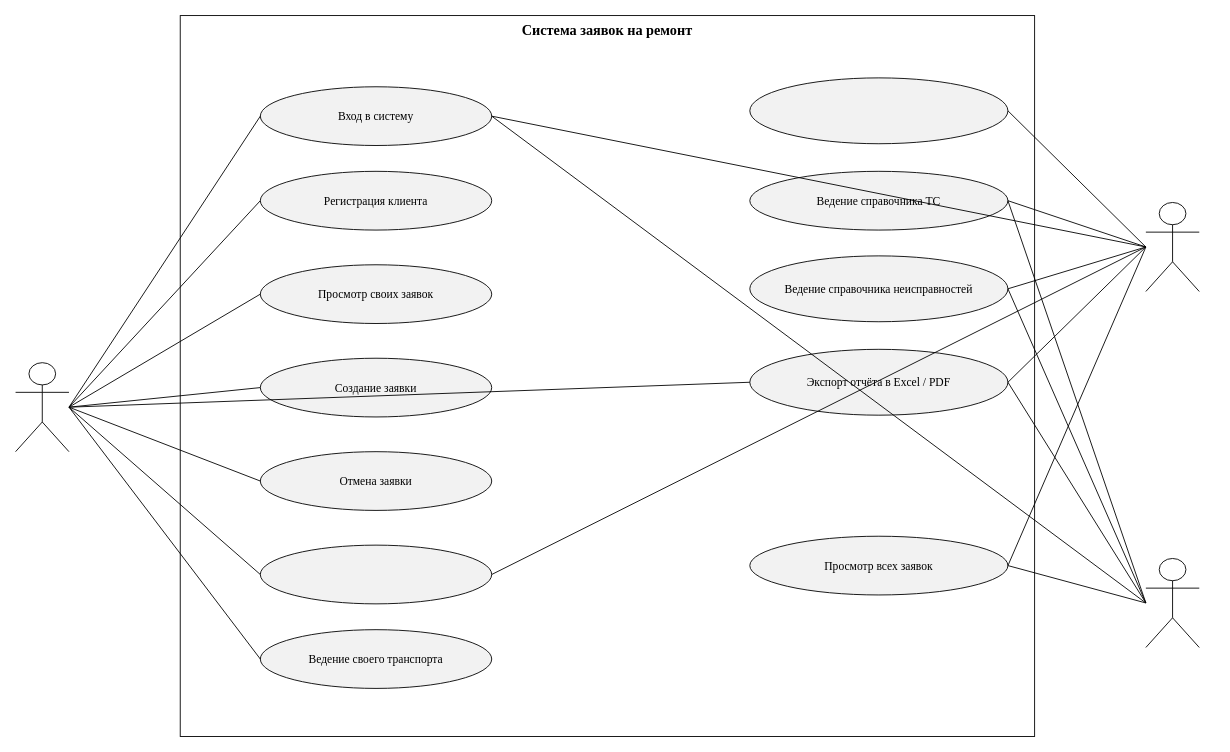
Image size: 1230x752. Some labels were removed from this diagram. The centre of each missing label's shape, as x and y in pixels:
Администратор: (x=1172, y=602)
Клиент: (x=42, y=407)
Менеджер: (x=1172, y=246)
Обработка заявки (принять / начать / завершить): (x=878, y=110)
Просмотр отчёта: (x=375, y=574)
